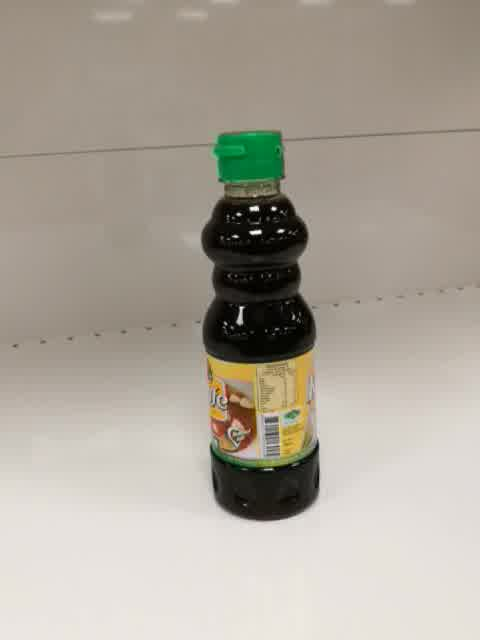cookingoil: (201, 128, 320, 523)
